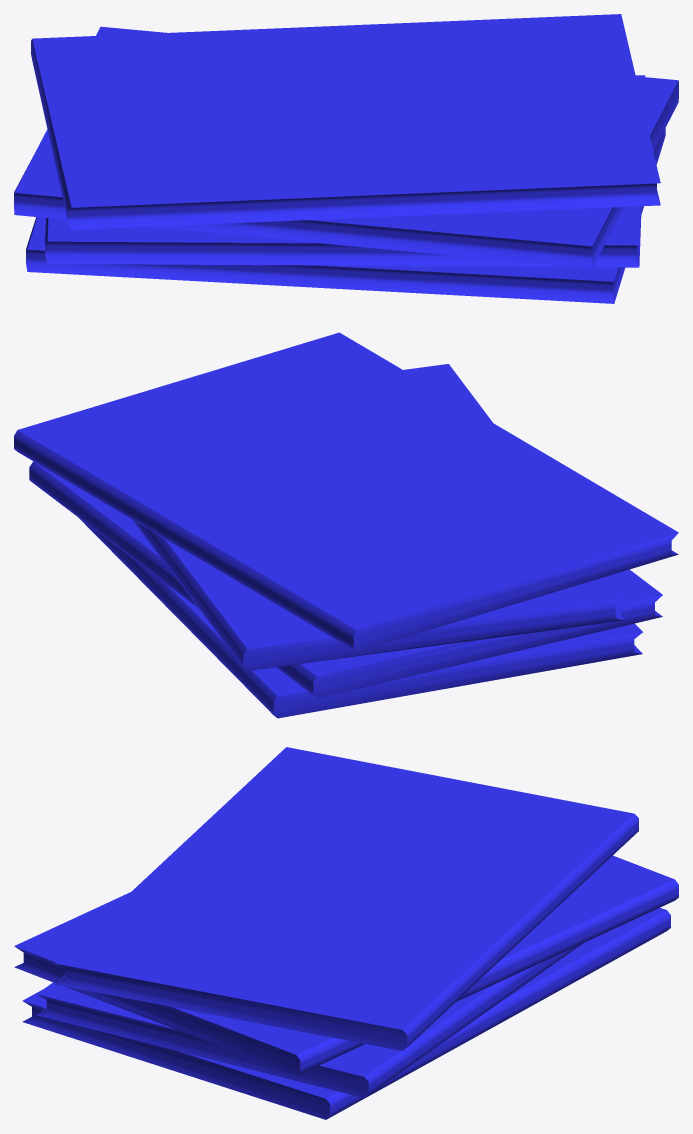
The model's file is Magazine stack.fbx.
3 views of the same model, one above another, from view 1: azimuth 30°, elevation 25°; view 2: azimuth 150°, elevation 25°; view 3: azimuth 270°, elevation 25° (orthographic). The views are drawn at different scales.
Parts seen in each view (by area): view 1: Box049; view 2: Box049; view 3: Box049.
Part boxes in pixels (bbox=[...]): Box049: bbox=[14, 14, 678, 303]; Box049: bbox=[14, 332, 678, 718]; Box049: bbox=[14, 747, 678, 1119].
Bounding box in the file's own units: 95.85 × 13.68 × 93.61.
